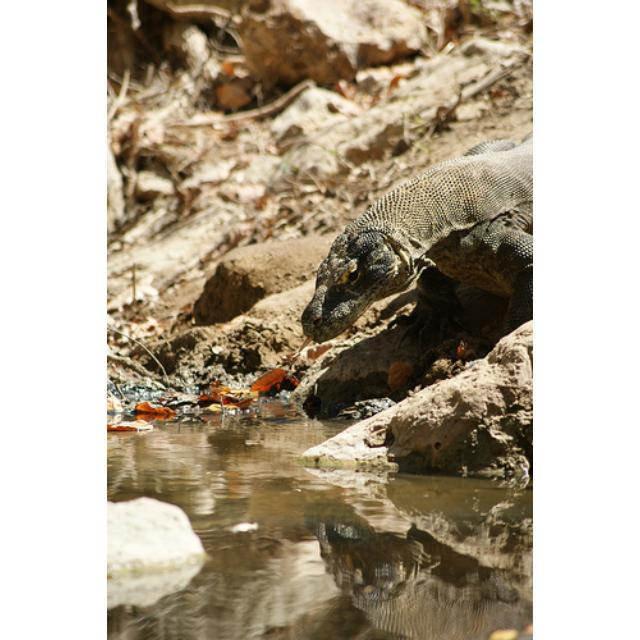KomodoDragon: (301, 143, 530, 342)
